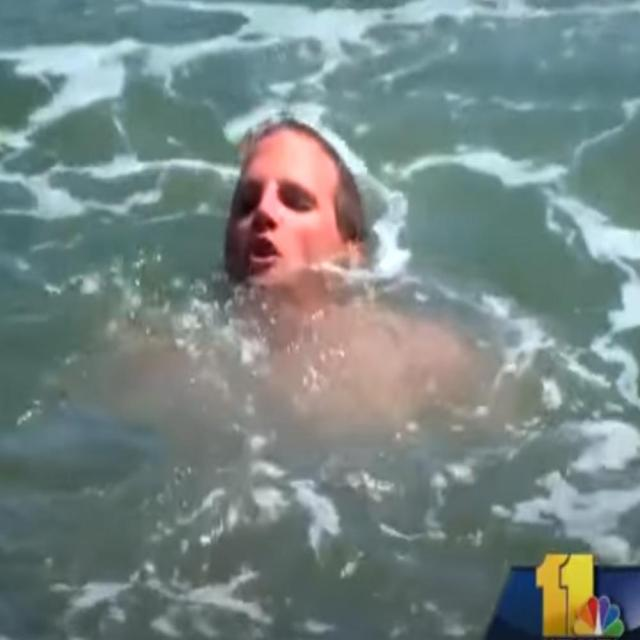Out of Water: (222, 103, 372, 281)
